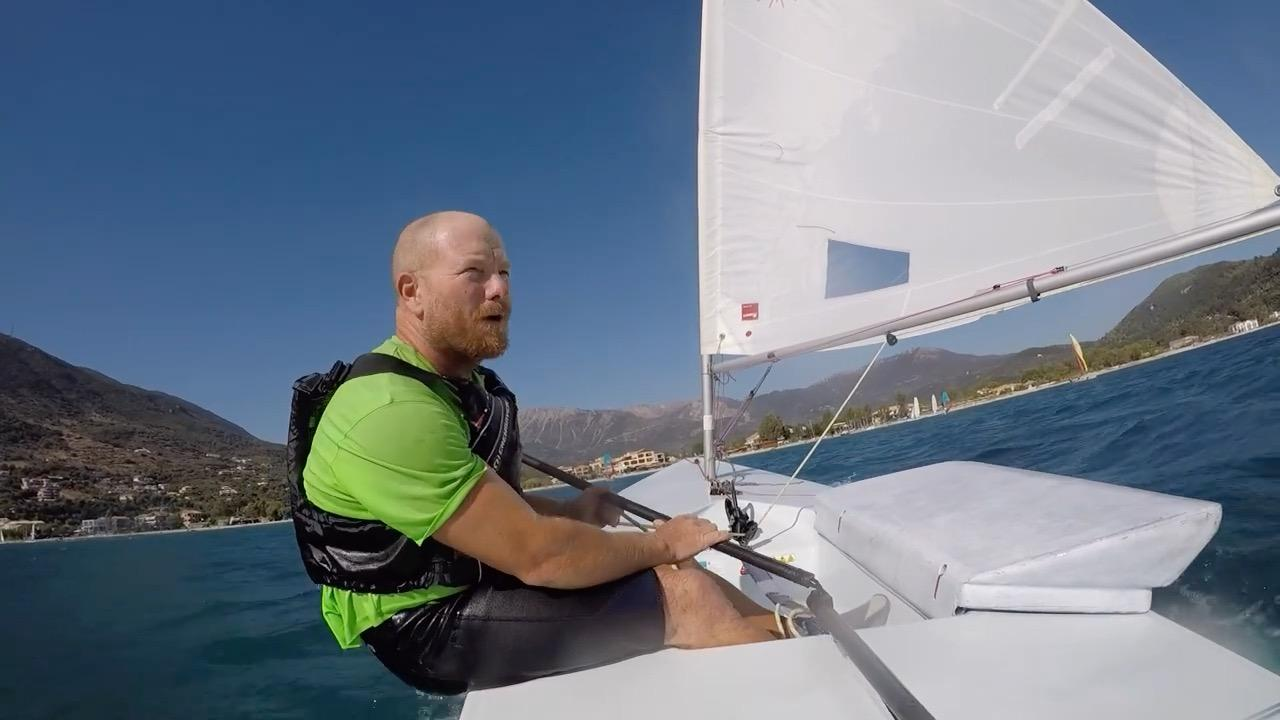boat: (457, 0, 1280, 720)
land: (716, 269, 1280, 448), (0, 333, 292, 541), (520, 402, 706, 465)
person: (289, 212, 781, 695)
sea: (738, 323, 1280, 677), (0, 526, 456, 720)
sky: (0, 0, 703, 442), (766, 232, 1280, 390), (1091, 0, 1280, 174)
